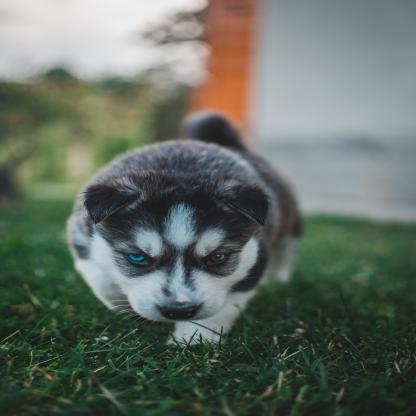husky: (58, 112, 305, 351)
